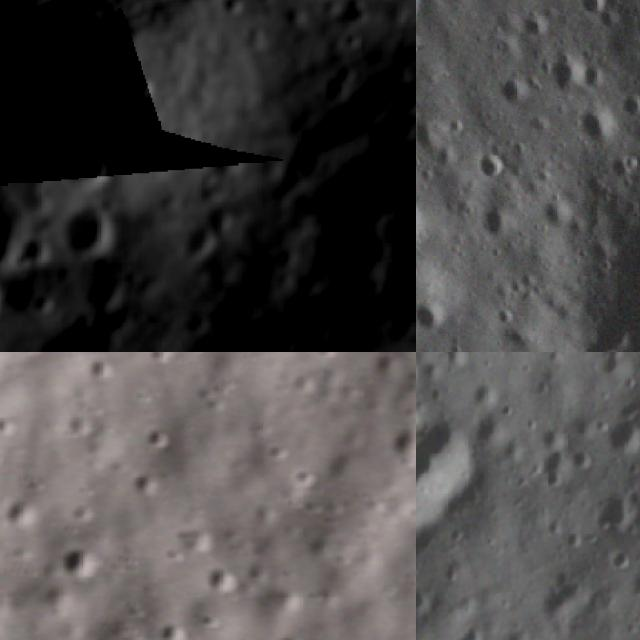crater: (507, 112, 640, 352), (0, 0, 143, 150), (416, 399, 482, 545), (532, 30, 600, 99), (564, 90, 628, 156), (48, 200, 112, 262), (459, 137, 513, 191), (464, 194, 517, 245), (163, 216, 220, 262), (586, 484, 634, 537), (0, 196, 30, 279), (62, 142, 111, 192), (486, 68, 534, 117), (416, 287, 457, 344), (597, 414, 640, 463), (368, 176, 414, 218), (58, 540, 100, 586), (386, 424, 416, 478), (203, 564, 240, 604), (611, 80, 640, 128), (388, 73, 416, 116), (213, 0, 258, 24), (569, 0, 614, 20)
